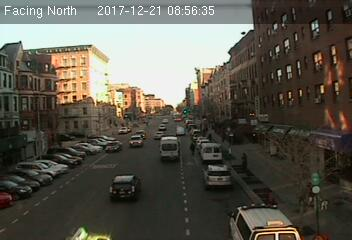car: (109, 174, 143, 201), (202, 163, 233, 191), (104, 140, 121, 153), (129, 135, 143, 148)
police: (226, 202, 305, 240)
truck: (159, 136, 180, 162), (201, 144, 223, 162), (176, 126, 186, 137)
